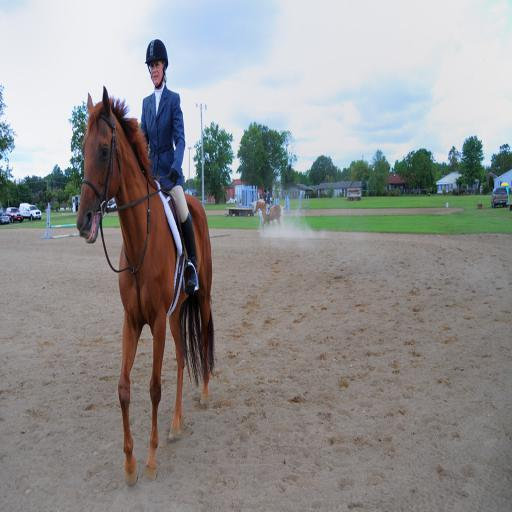horse: (76, 82, 214, 488)
